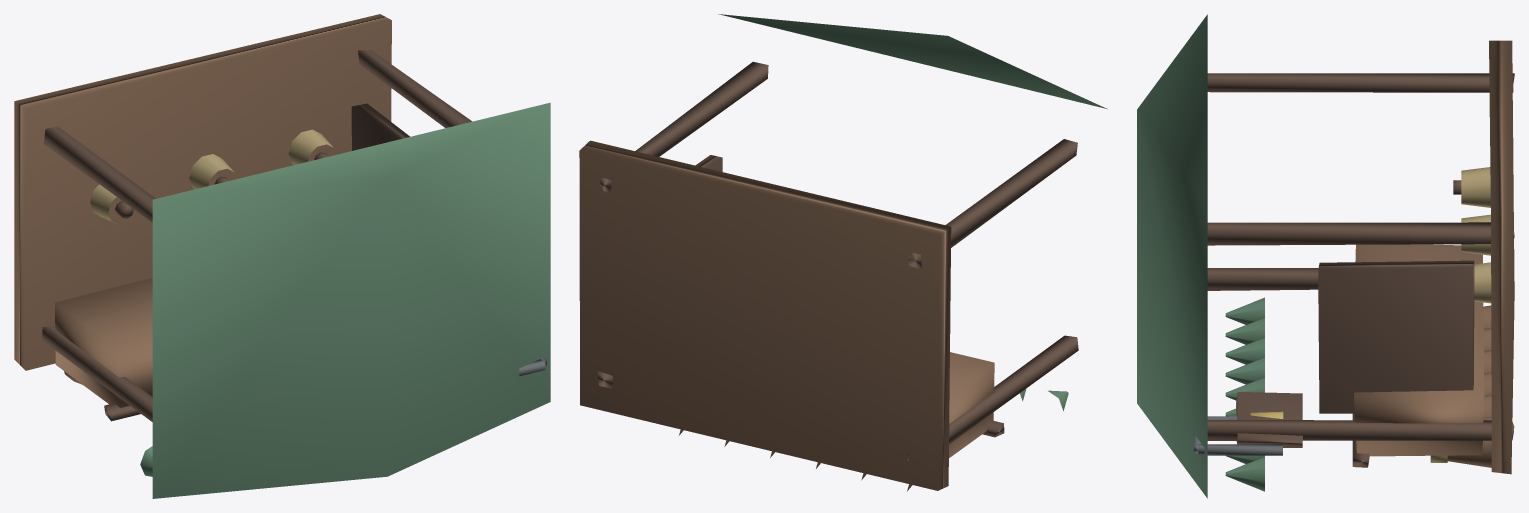
Rendered from fruit_vegetable_stall_hd.glb.
3 renders of one model, left to right at view 1: azimuth 30°, elevation 25°; view 2: azimuth 150°, elevation 25°; view 3: azimuth 270°, elevation 25°, orthographic.
Size of the model in its own units: 4.8 by 3.56 by 4.01.
